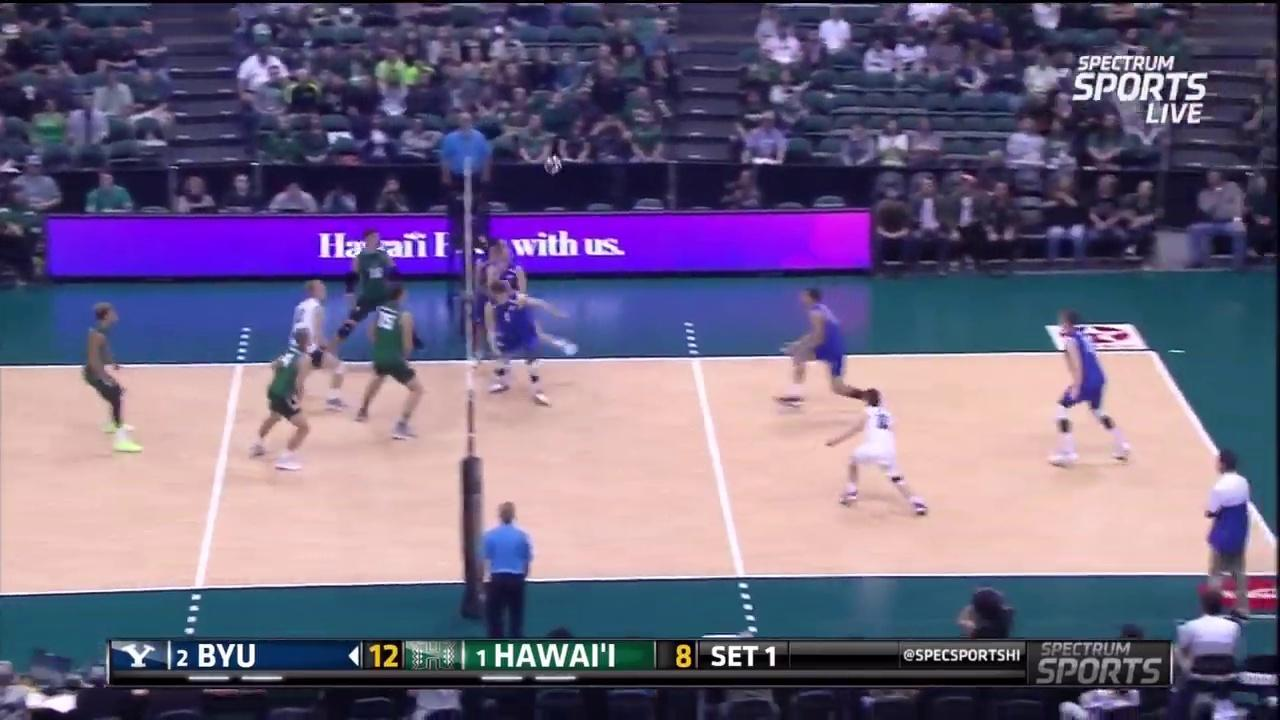player: (1045, 306, 1134, 471), (776, 282, 880, 405), (830, 387, 927, 512), (336, 226, 421, 364), (484, 243, 579, 359), (482, 280, 563, 409), (279, 270, 348, 414), (360, 284, 421, 446), (83, 305, 138, 448), (262, 323, 313, 474), (474, 248, 526, 370)
refree: (435, 107, 494, 236), (478, 505, 533, 636)
